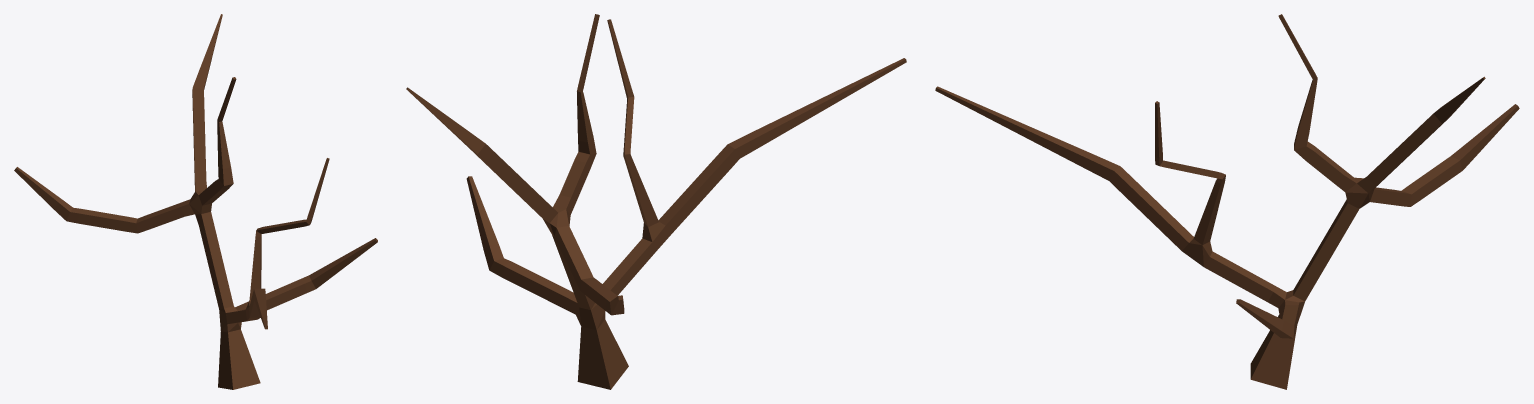
Rendered from bush2_trunk.fbx.
The picture shows the model from 3 angles, left to right: view 1: azimuth 30°, elevation 25°; view 2: azimuth 150°, elevation 25°; view 3: azimuth 270°, elevation 25°; orthographic projection. The views are drawn at different scales.
Parts seen in each view (by area): view 1: Icosphere.018; view 2: Icosphere.018; view 3: Icosphere.018.
Boxes of the visible parts, x1=… form: Icosphere.018: x1=14, y1=14, x2=377, y2=389; Icosphere.018: x1=406, y1=14, x2=906, y2=389; Icosphere.018: x1=935, y1=14, x2=1519, y2=389.
Bounding box in the file's own units: 75.71 × 90.24 × 130.
